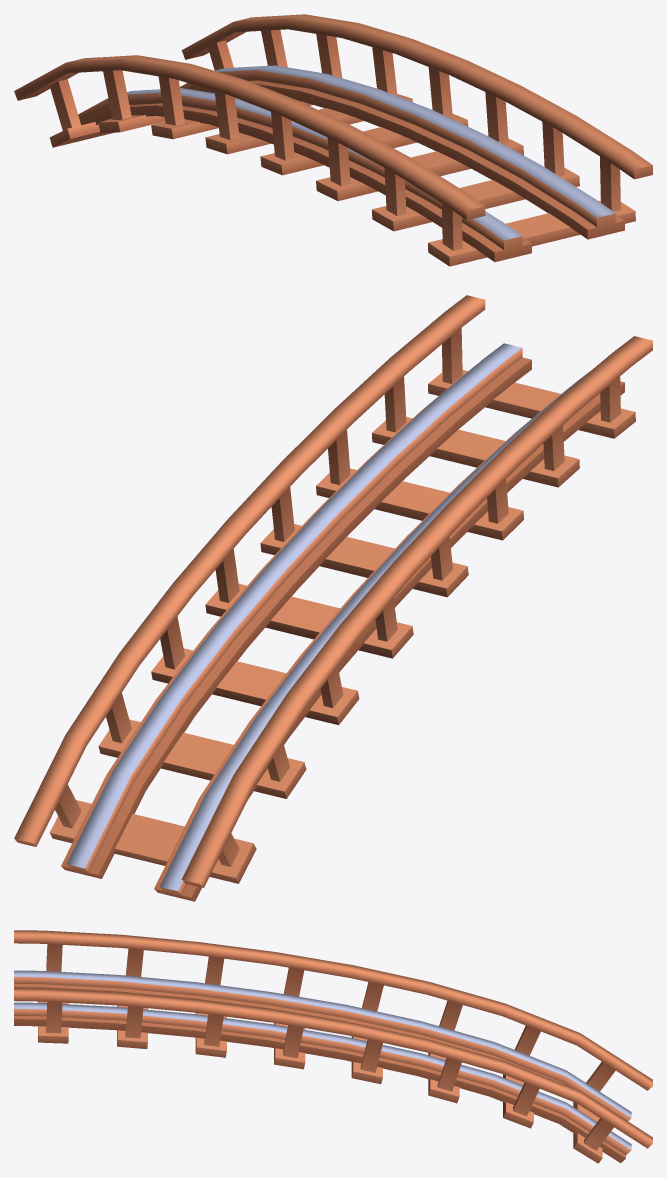
Rendered from kenney-coaster-coaster-wood-straight-hill-end.glb.
3 views of the same model, one above another, from view 1: azimuth 30°, elevation 25°; view 2: azimuth 150°, elevation 25°; view 3: azimuth 270°, elevation 25° (orthographic). The views are drawn at different scales.
Visible parts, largest first — view 1: coaster-wood-straight-hill-end; view 2: coaster-wood-straight-hill-end; view 3: coaster-wood-straight-hill-end.
Part boxes in pixels (x1,y1,x2,y2): coaster-wood-straight-hill-end: [14, 14, 652, 266]; coaster-wood-straight-hill-end: [14, 295, 652, 901]; coaster-wood-straight-hill-end: [14, 930, 652, 1163].
Bounding box in the file's own units: 1 × 1.3 × 4.21.
Materials: 1 (1 with a texture image).
